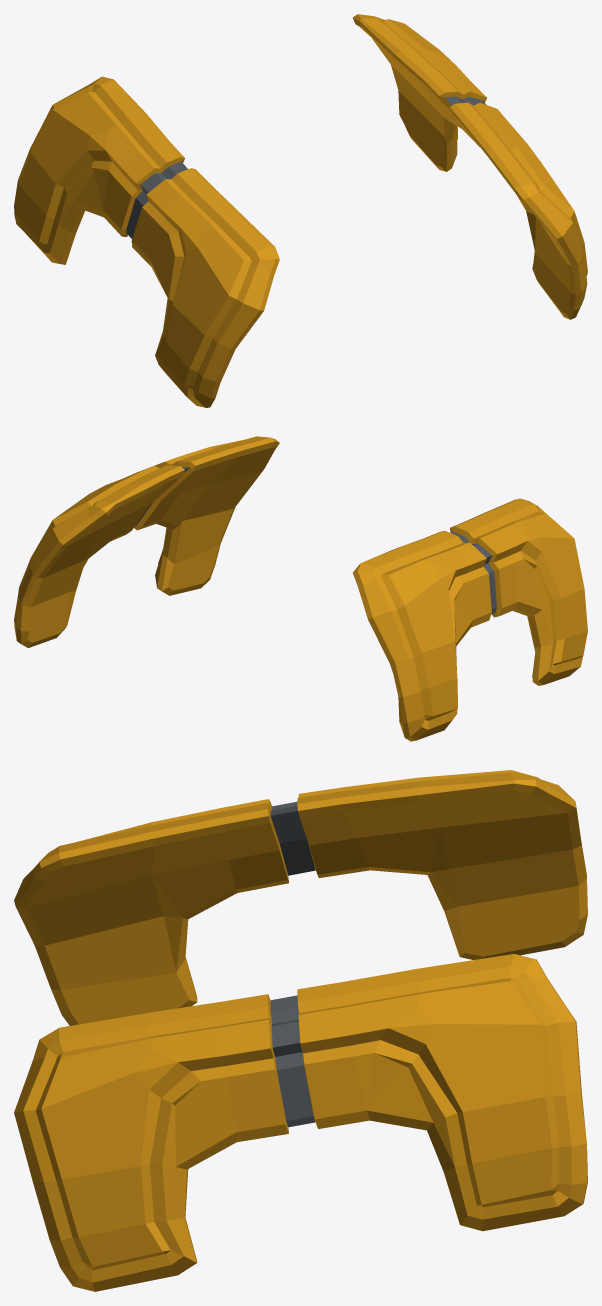
The model's file is Fighter_06_Side_Frame_Yellow.fbx.
3 renders of one model, top to bottom at view 1: azimuth 30°, elevation 25°; view 2: azimuth 150°, elevation 25°; view 3: azimuth 270°, elevation 25°, orthographic. The views are drawn at different scales.
Visible parts, largest first — view 1: Fighter_06_Side_Frame_Yellow; view 2: Fighter_06_Side_Frame_Yellow; view 3: Fighter_06_Side_Frame_Yellow.
Boxes of the visible parts, left/top/right/bottom form: Fighter_06_Side_Frame_Yellow: left=14, top=14, right=587, bottom=407; Fighter_06_Side_Frame_Yellow: left=14, top=436, right=587, bottom=741; Fighter_06_Side_Frame_Yellow: left=14, top=770, right=587, bottom=1291.
Bounding box in the file's own units: 310 × 146 × 256.
Materials: 1 (1 with a texture image).
